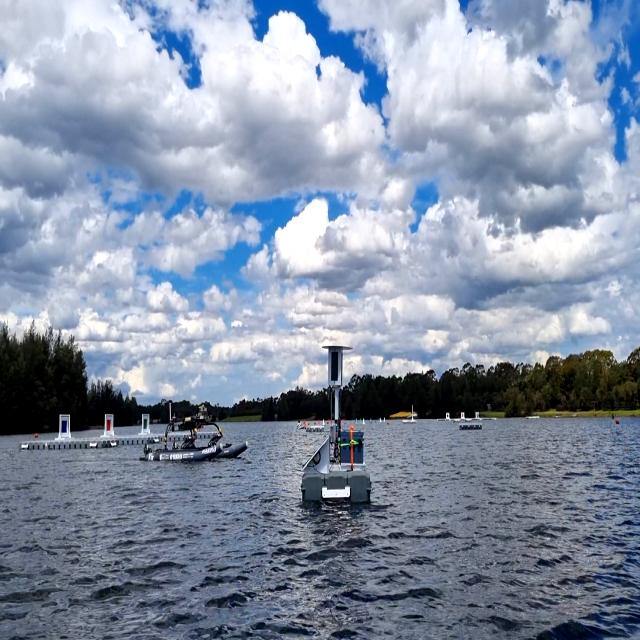led: (329, 350, 340, 383)
